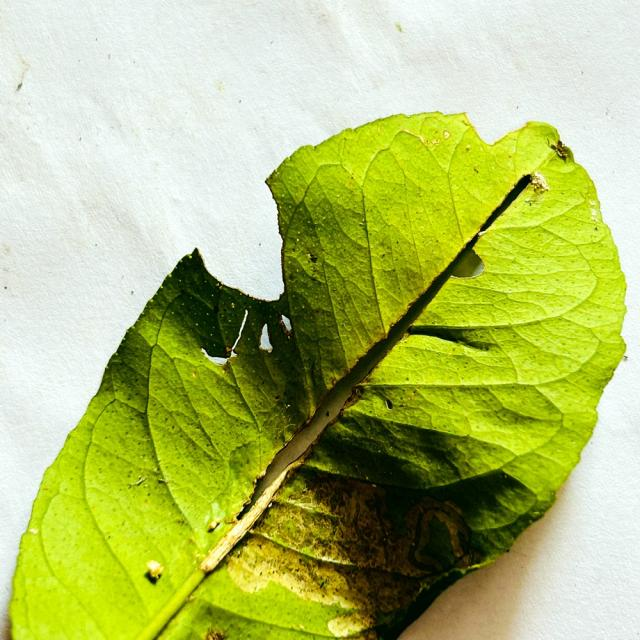Deficiency Leaf: (203, 174, 531, 571), (257, 316, 301, 381), (201, 323, 255, 367)
Lemon: (11, 112, 625, 639)
